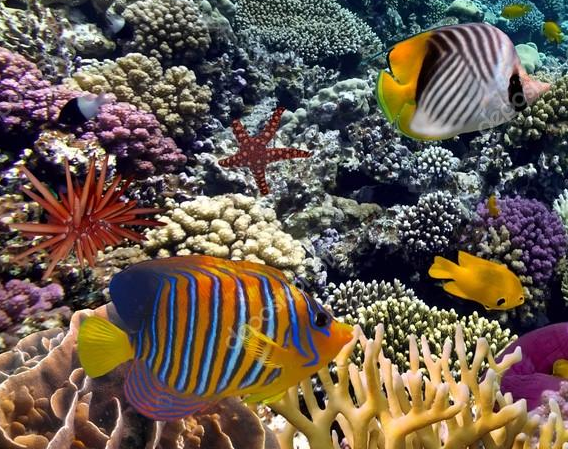fishRound: (77, 252, 355, 420), (376, 20, 553, 142), (427, 250, 526, 311), (542, 19, 563, 46), (498, 4, 530, 20)
fishSmall: (57, 88, 113, 127), (105, 11, 133, 42)
